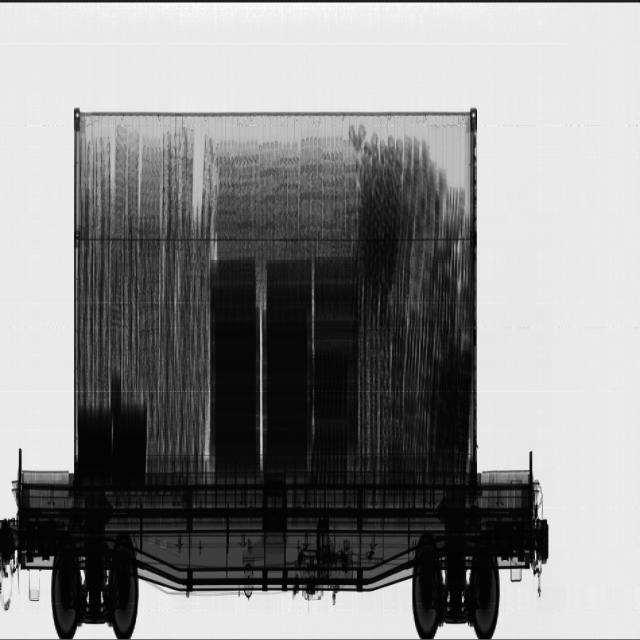shoes: (77, 127, 356, 456)
